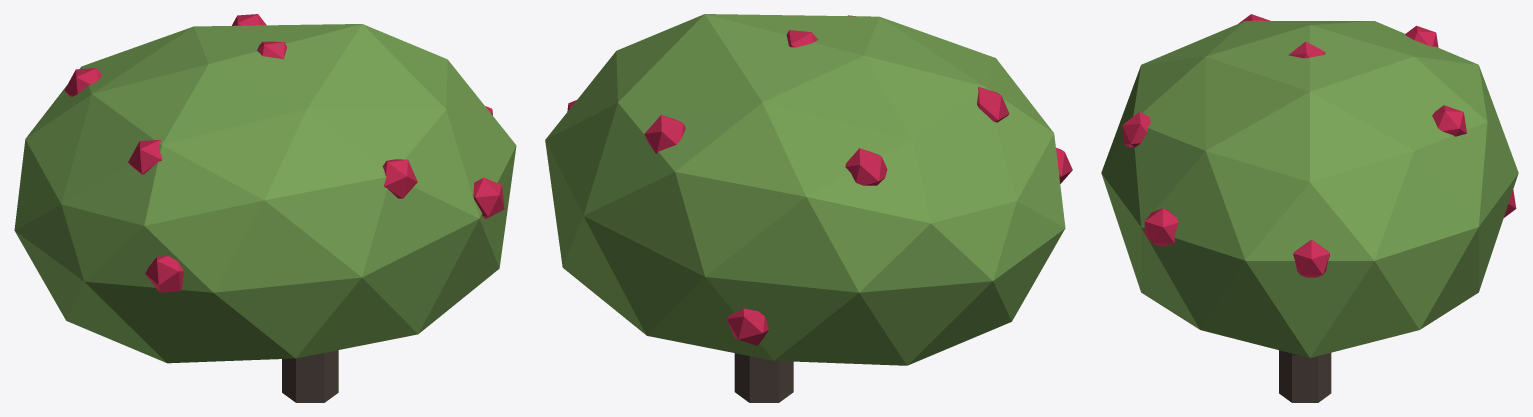
Rendered from 2_2 Bush.fbx.
3 renders of one model, left to right at view 1: azimuth 30°, elevation 25°; view 2: azimuth 150°, elevation 25°; view 3: azimuth 270°, elevation 25°, orthographic. The views are drawn at different scales.
Parts seen in each view (by area): view 1: Icosphere.008; view 2: Icosphere.008; view 3: Icosphere.008.
Part boxes in pixels (left/top/right/bottom): Icosphere.008: left=14, top=14, right=516, bottom=402; Icosphere.008: left=545, top=14, right=1072, bottom=402; Icosphere.008: left=1101, top=14, right=1518, bottom=402.
Bounding box in the file's own units: 205 × 159 × 181.
